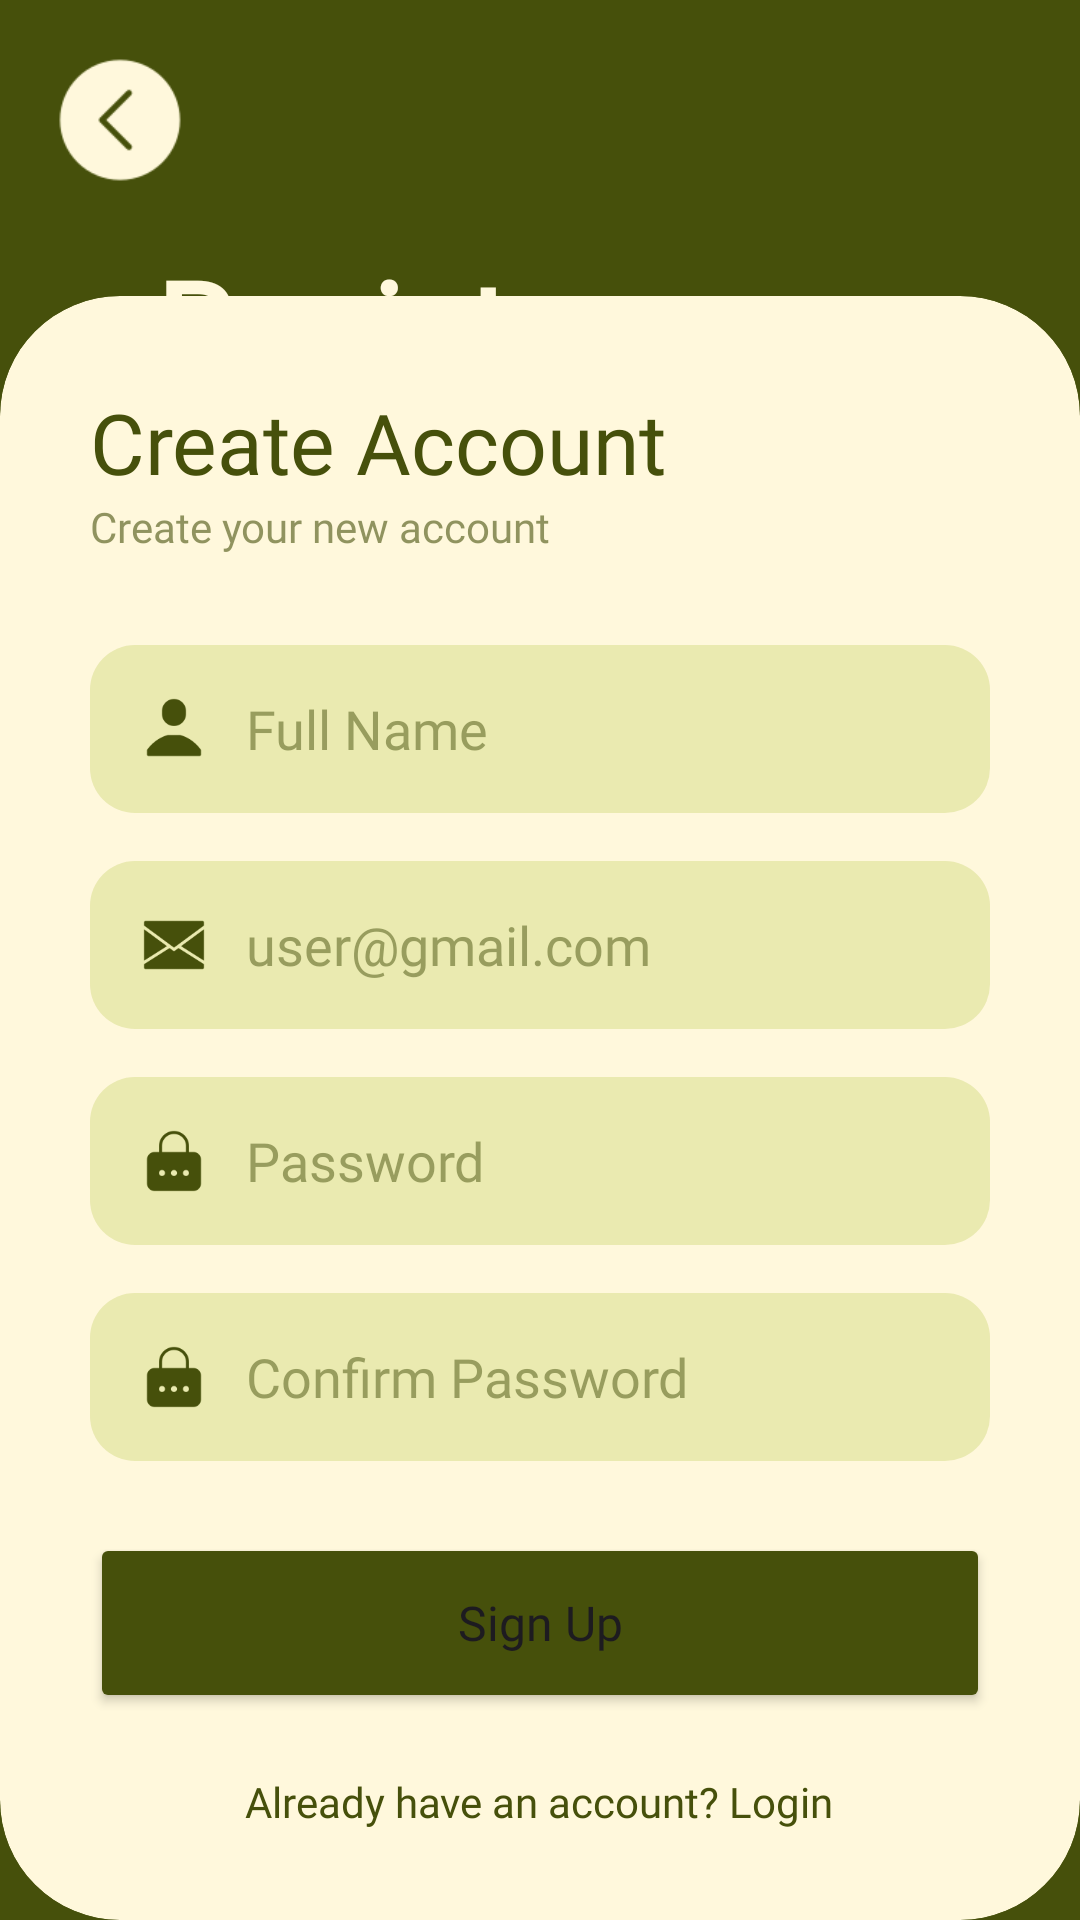

Icons on this 1080px x 1920px Android screen, each with the point to tap as (x=x, y=y):
Back: (x=120, y=120)
